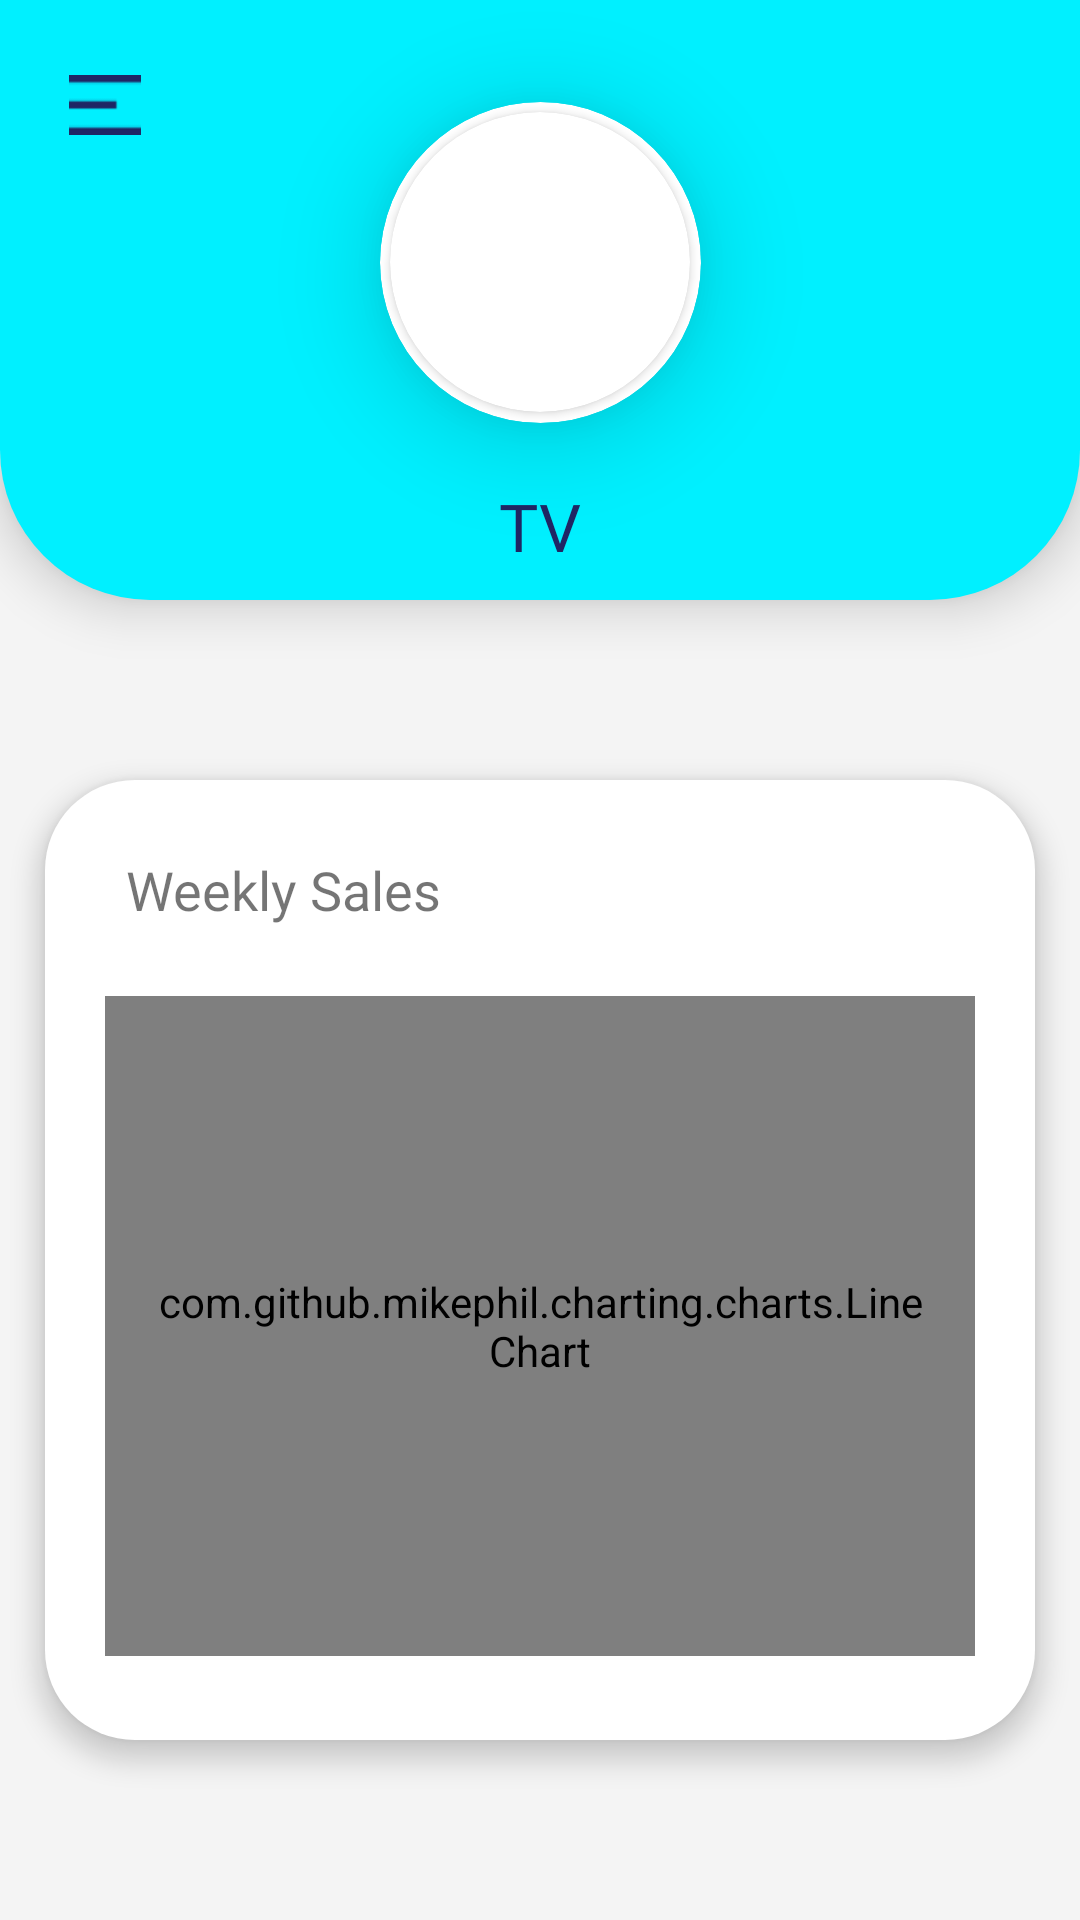

Icon bounding boxes for this 1080px x 1920px phone screenshot, format bbox=(x1, y1, x2, y2):
menu: bbox=(69, 75, 141, 135)
